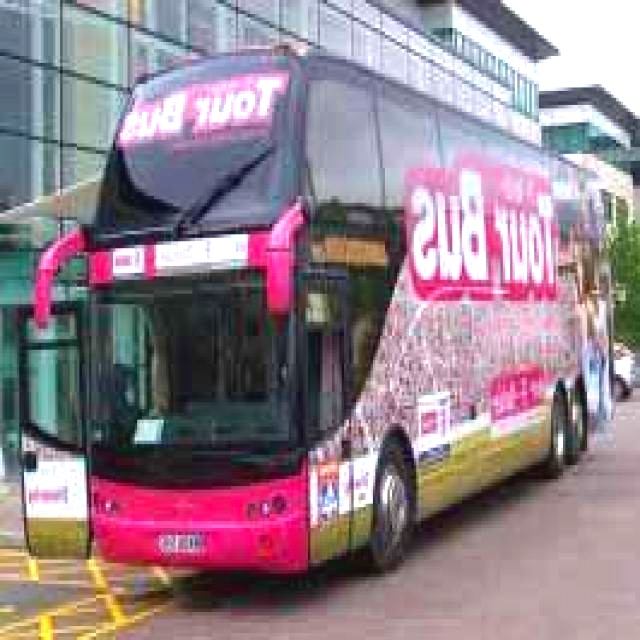bus: (12, 31, 631, 599)
